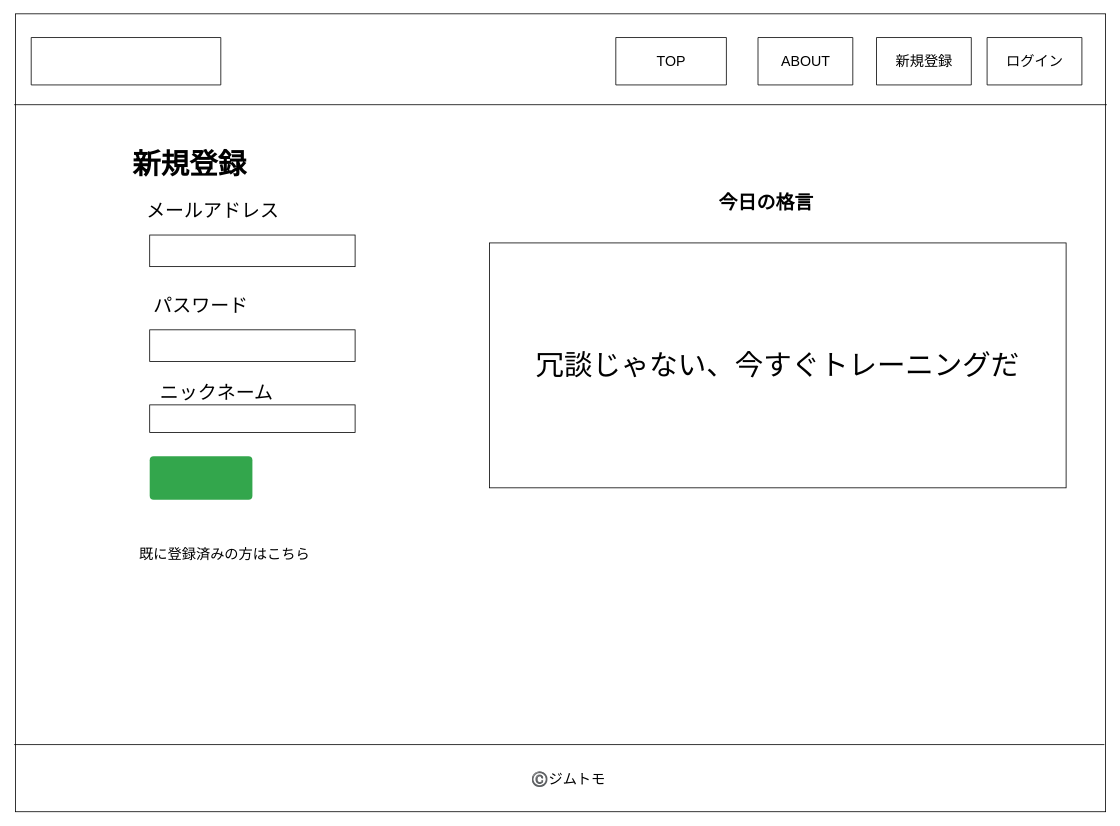
Some shapes in this 1120 by 826 pixel diagram are drawn without their labels. The centre of each missing label's shape, as x and y in pixels:
LOGO: pixel 125 61
登録: pixel 200 477
